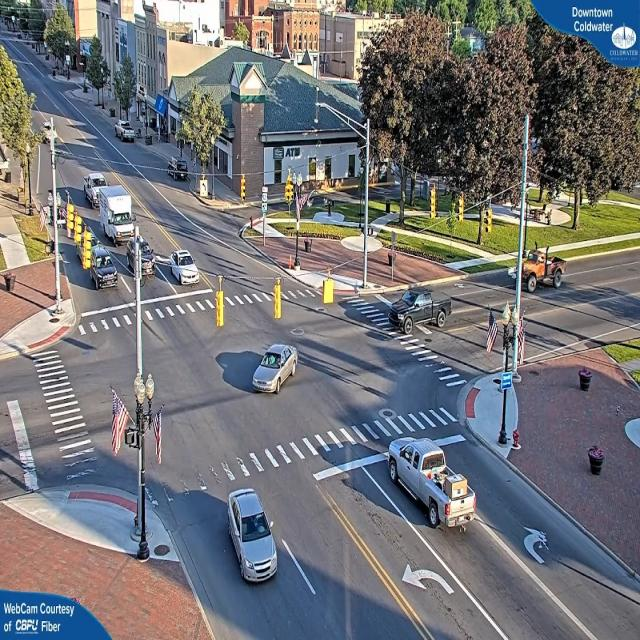car: (384, 440, 476, 536), (226, 492, 279, 585), (388, 285, 452, 336), (251, 344, 297, 396), (127, 238, 157, 288), (91, 245, 118, 292), (167, 250, 200, 285), (116, 123, 136, 143)
truck: (91, 180, 138, 245), (522, 244, 571, 288)
